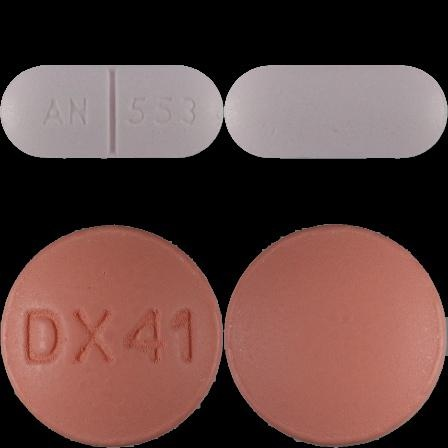50090-1182: (0, 0, 224, 224)
